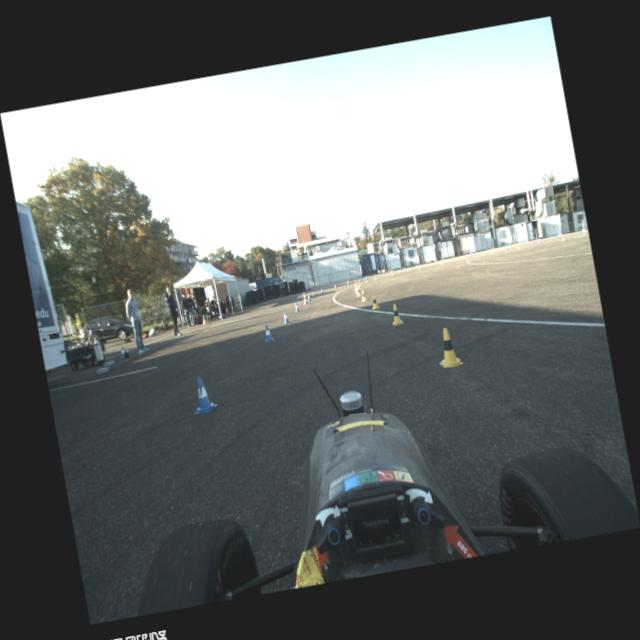blue_cone: (188, 374, 218, 413), (262, 324, 274, 342), (282, 310, 290, 323), (294, 301, 300, 312), (306, 294, 312, 300), (504, 244, 507, 250), (583, 228, 586, 234), (320, 288, 323, 293), (312, 291, 314, 297), (334, 284, 337, 288), (389, 270, 392, 274), (538, 238, 540, 244), (346, 280, 348, 284), (366, 276, 368, 280), (415, 264, 417, 268), (439, 259, 441, 263), (469, 252, 471, 256)
large_orange_cone: (301, 291, 308, 304), (352, 280, 358, 290)
yellow_cone: (433, 326, 463, 368), (388, 303, 403, 326), (370, 294, 380, 309), (360, 290, 367, 302), (356, 287, 360, 296), (561, 233, 565, 240), (490, 248, 493, 254), (358, 280, 361, 285), (357, 281, 359, 287), (391, 270, 393, 276), (517, 244, 520, 248), (374, 274, 376, 279), (418, 264, 420, 269), (440, 259, 442, 264), (365, 278, 367, 282), (466, 254, 468, 258)
